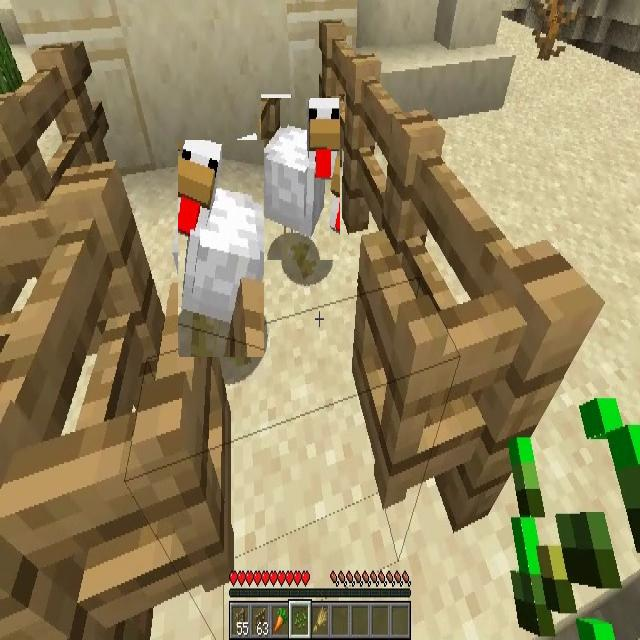duck: (178, 140, 264, 357), (261, 98, 340, 260)
